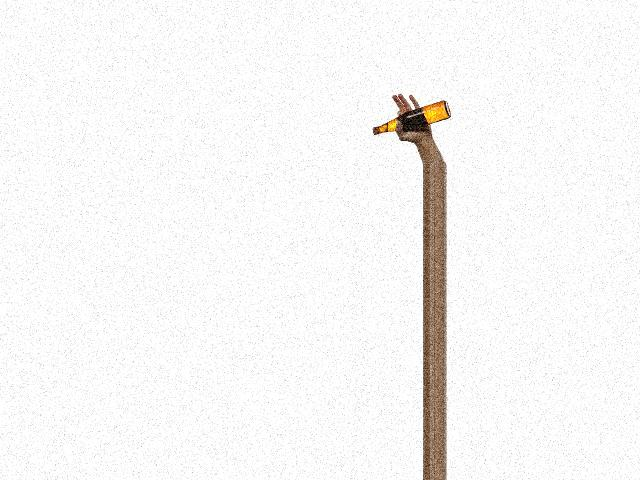beer: (374, 101, 450, 134)
